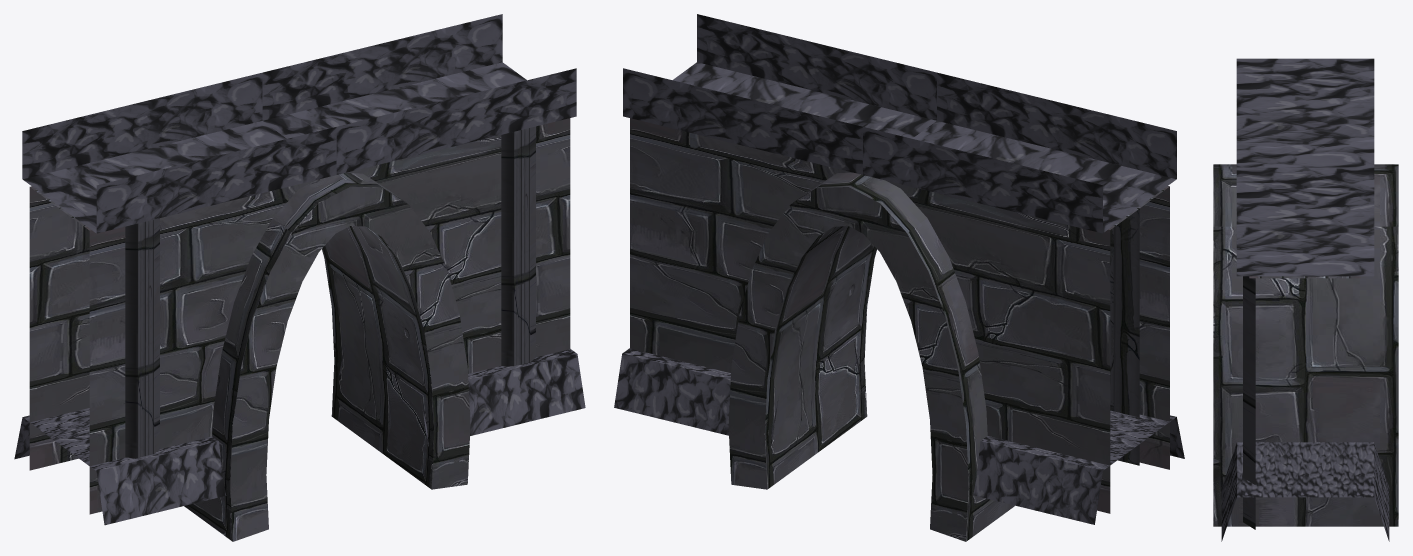
The model's file is wall_003.FBX.
3 views of the same model, side by side, from view 1: azimuth 30°, elevation 25°; view 2: azimuth 150°, elevation 25°; view 3: azimuth 270°, elevation 25° (orthographic). The views are drawn at different scales.
Visible parts, largest first — view 1: Box07, Box03, Ellipse01, Box02, Box05, Box04, Box06; view 2: Box07, Box03, Ellipse01, Box02, Box06, Box04; view 3: Ellipse01, Box03, Box06, Box05, Box07.
Part boxes in pixels (x1,y1,x2,y2): Box07: [29, 118, 570, 514]; Box03: [22, 14, 576, 233]; Ellipse01: [184, 173, 470, 541]; Box02: [14, 408, 226, 525]; Box05: [501, 126, 535, 366]; Box04: [125, 218, 159, 457]; Box06: [338, 341, 585, 446]; Box07: [630, 118, 1169, 513]; Box03: [623, 14, 1176, 233]; Ellipse01: [728, 172, 1014, 541]; Box02: [973, 410, 1184, 524]; Box06: [614, 340, 861, 445]; Box04: [1110, 209, 1139, 465]; Ellipse01: [1213, 164, 1398, 526]; Box03: [1236, 58, 1374, 276]; Box06: [1221, 442, 1389, 541]; Box05: [1243, 276, 1255, 529]; Box07: [1249, 276, 1360, 278].
Size of the model in its own units: 141 by 106 by 50.64.
Materials: 3 (3 with a texture image).
